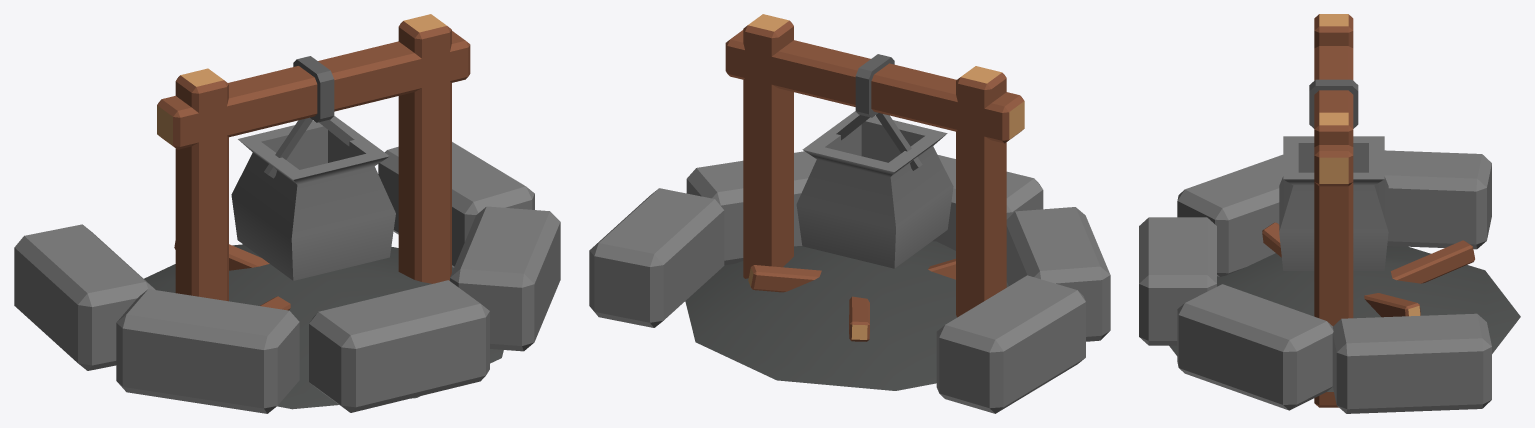
Rendered from Fierplace.fbx.
3 renders of one model, left to right at view 1: azimuth 30°, elevation 25°; view 2: azimuth 150°, elevation 25°; view 3: azimuth 270°, elevation 25°, orthographic. The views are drawn at different scales.
Visible parts, largest first — view 1: Fireplace; view 2: Fireplace; view 3: Fireplace.
Boxes of the visible parts, bbox=[...] form: Fireplace: bbox=[14, 14, 560, 413]; Fireplace: bbox=[589, 14, 1110, 413]; Fireplace: bbox=[1139, 14, 1520, 413].
Size of the model in its own units: 0.6149 by 0.4 by 0.49.
